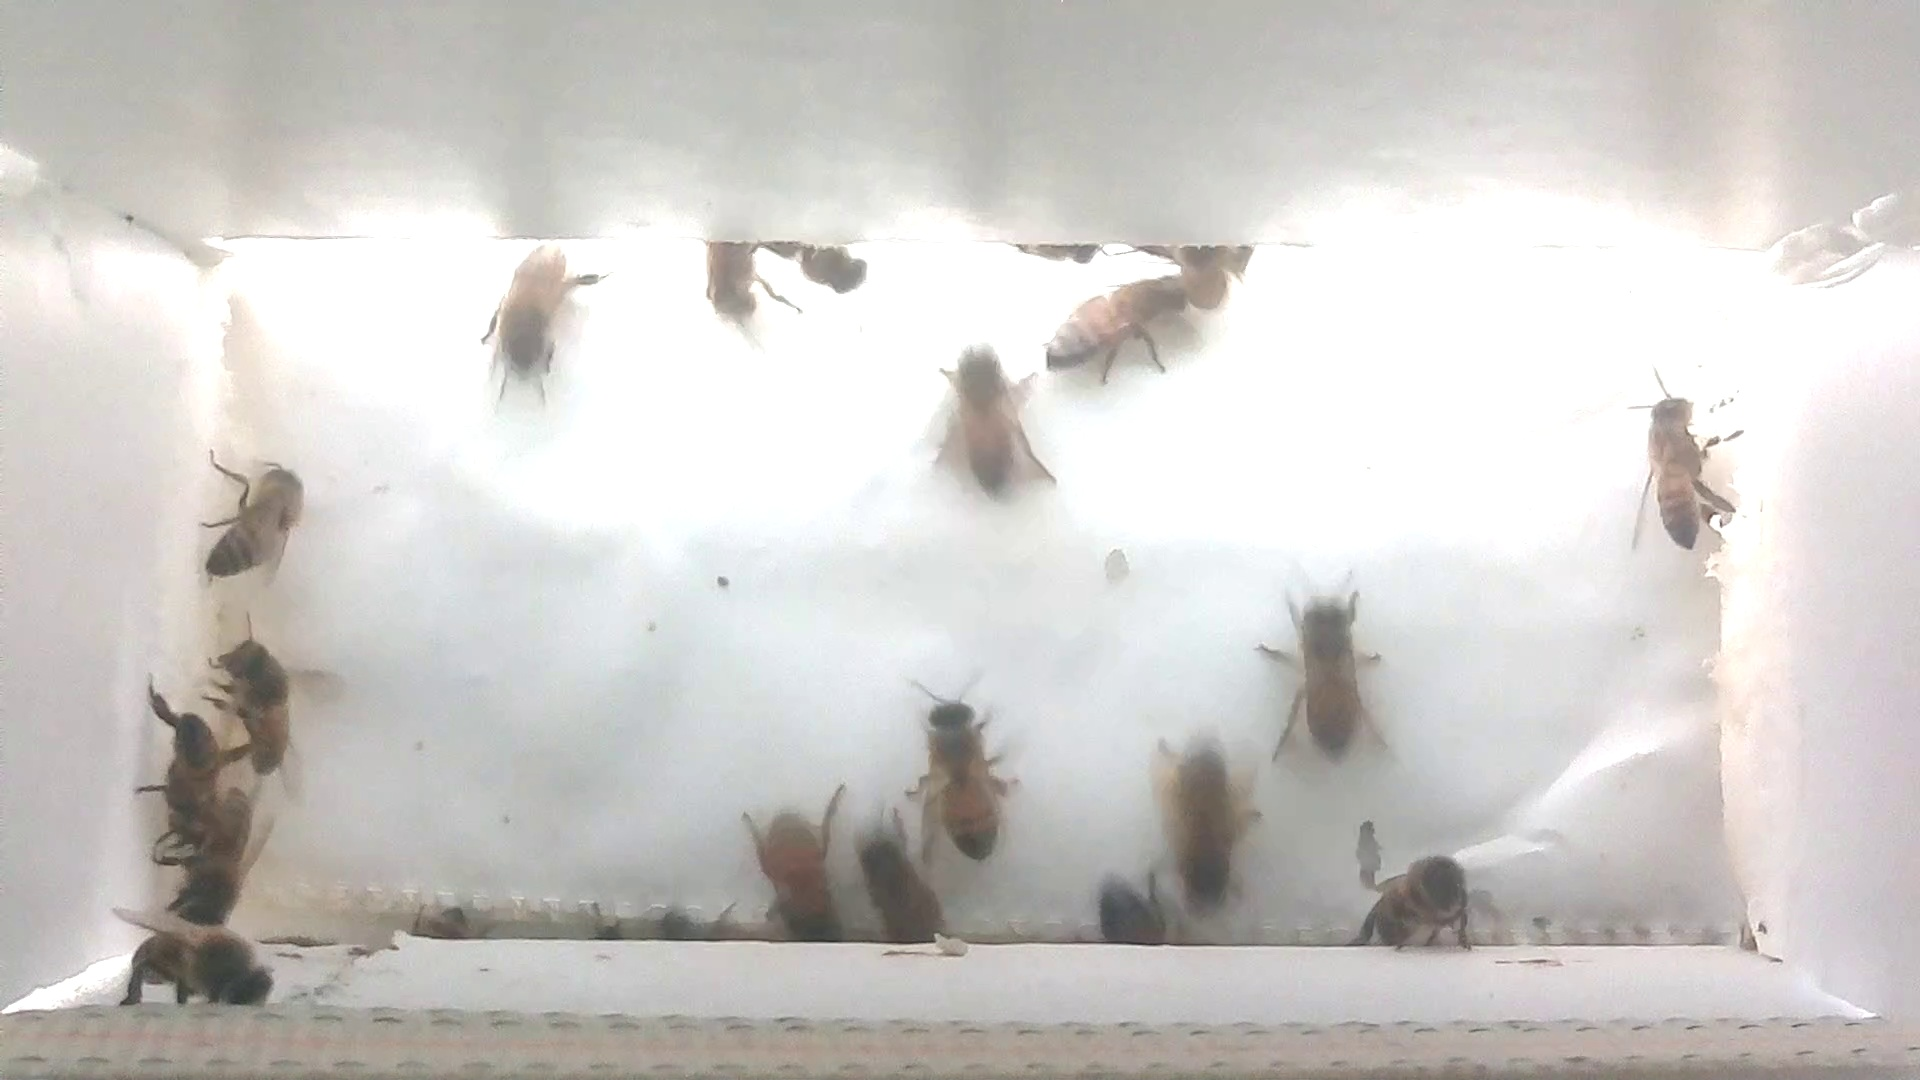bee: (1244, 568, 1415, 781), (886, 655, 1034, 873), (1615, 357, 1751, 559), (469, 229, 608, 419), (183, 419, 320, 599), (200, 613, 335, 791), (723, 773, 860, 945), (1149, 719, 1265, 920), (928, 336, 1056, 514), (1349, 823, 1494, 963), (116, 893, 287, 1009), (148, 775, 278, 918), (1040, 270, 1197, 384), (673, 216, 796, 353), (133, 683, 236, 835), (845, 820, 961, 953), (1079, 855, 1182, 956), (764, 219, 878, 309), (1171, 229, 1269, 320)
